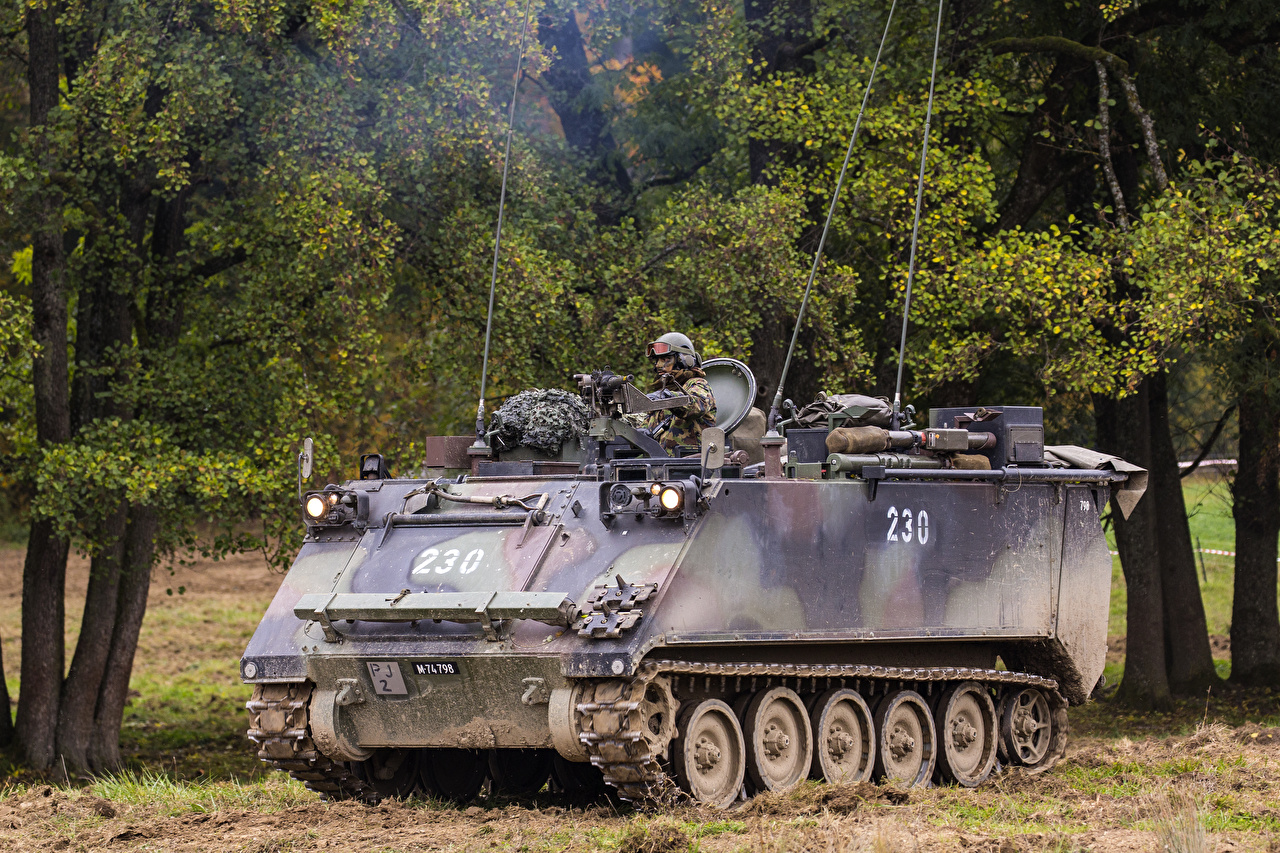btr: (287, 410, 1146, 811)
pilot: (594, 334, 730, 459)
